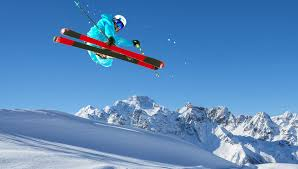skis: (53, 26, 165, 72)
